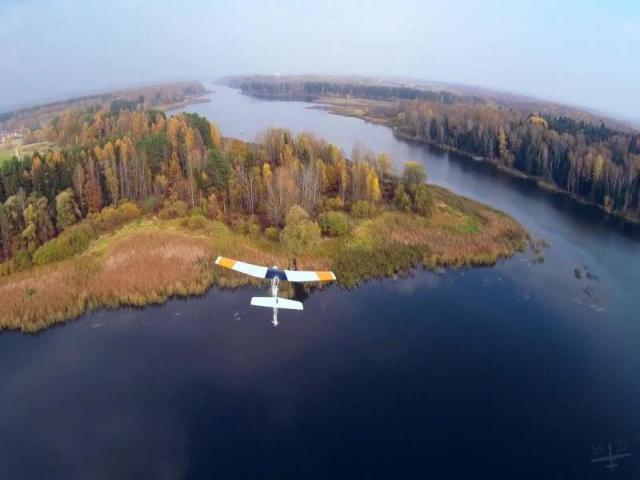hedef: (212, 252, 337, 330)
